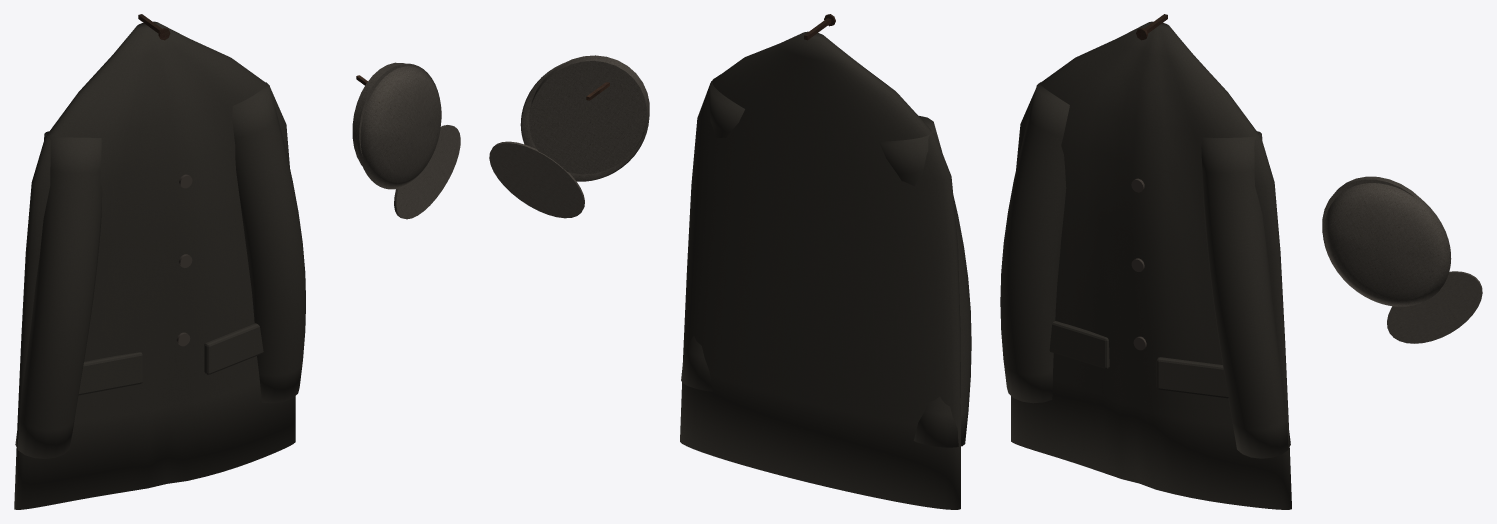
The model's file is jacket-and-cap-on-nail.glb.
3 renders of one model, left to right at view 1: azimuth 30°, elevation 25°; view 2: azimuth 150°, elevation 25°; view 3: azimuth 330°, elevation 25°, orthographic.
Parts seen in each view (by area): view 1: jacket, cap; view 2: jacket, cap; view 3: jacket, cap.
Part boxes in pixels (x1,y1,x2,y2): jacket: (14,21,305,509); cap: (352,62,460,219); jacket: (680,31,971,509); cap: (489,55,649,218); jacket: (1000,21,1291,509); cap: (1322,176,1482,343).
Size of the model in its own units: 0.8423 by 0.796 by 0.1317.
Materials: 4 (3 with a texture image).
